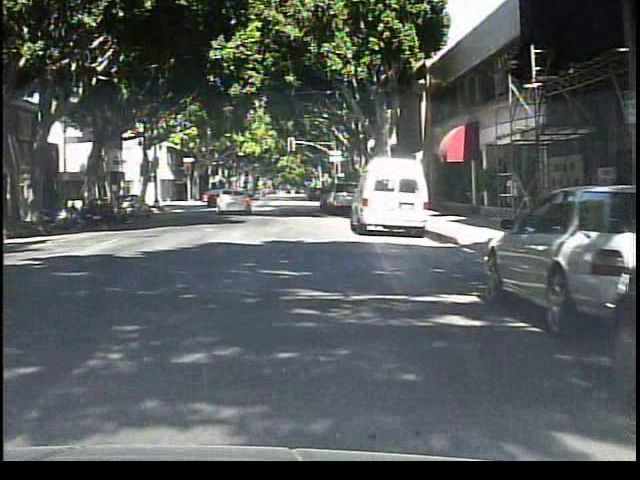person: (500, 165, 527, 230), (254, 179, 274, 212)
